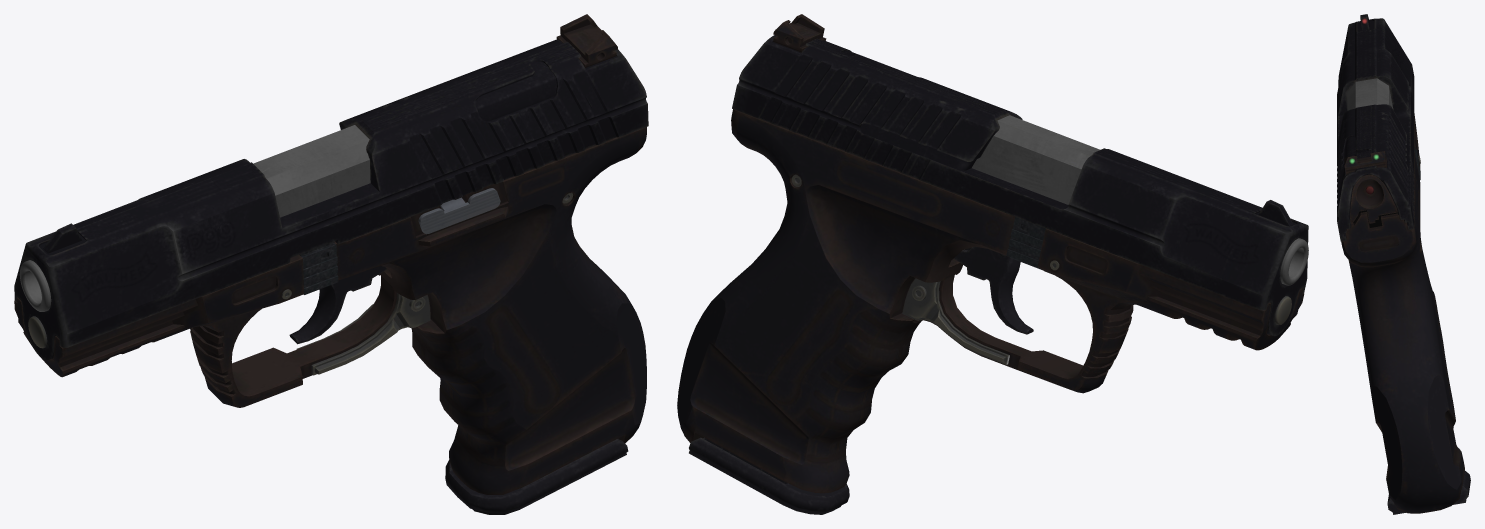
The model's file is walther_p99.glb.
3 views of the same model, side by side, from view 1: azimuth 30°, elevation 25°; view 2: azimuth 150°, elevation 25°; view 3: azimuth 270°, elevation 25° (orthographic). The views are drawn at different scales.
Visible parts, largest first — view 1: walther_p99; view 2: walther_p99; view 3: walther_p99.
Part boxes in pixels (<box>): walther_p99: <box>14,14,648,514</box>; walther_p99: <box>677,14,1308,514</box>; walther_p99: <box>1337,14,1470,514</box>.
Bounding box in the file's own units: 0.1967 × 0.1452 × 0.0474.
1 material, 1 textured.
